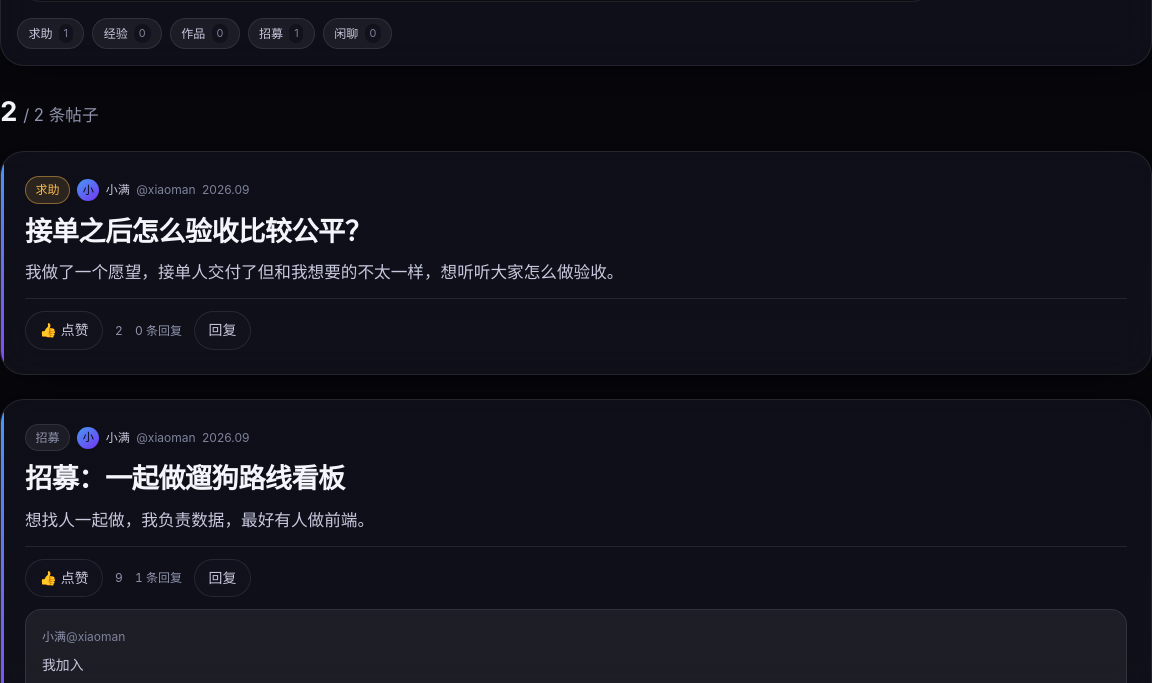
Scenario: ForumPage › 可以回复帖子
(page scrolled)
Click the button "回复" below "接单之后怎么验收比较公平？" at (222, 331), box [194,311,251,350]
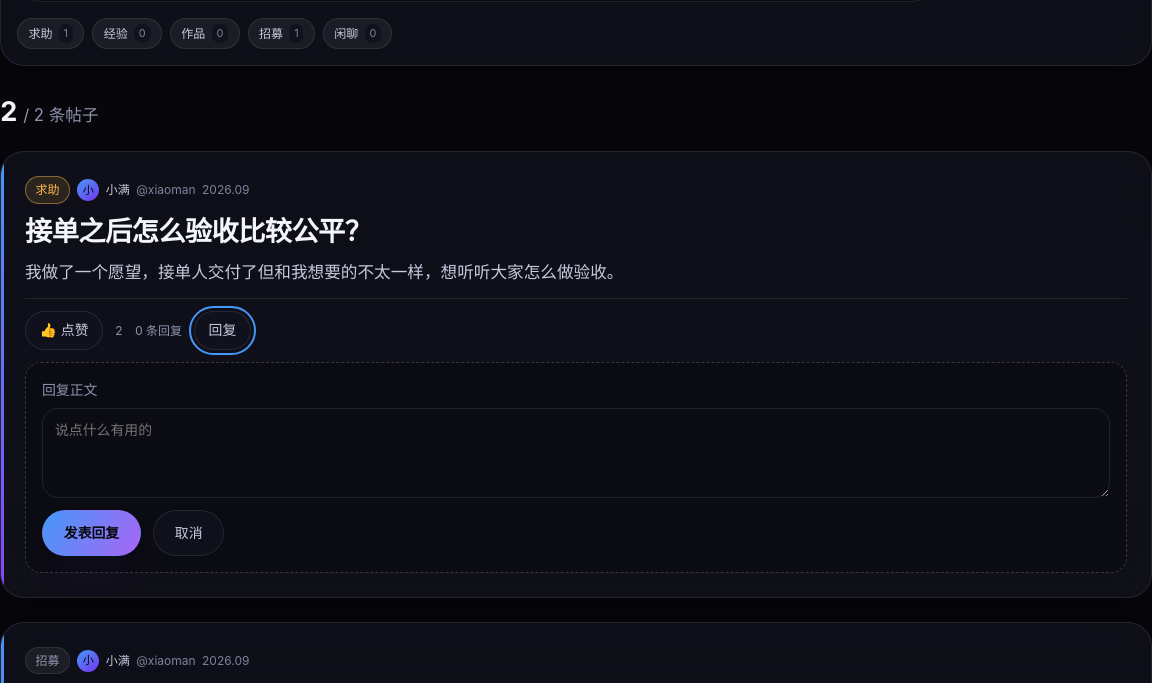
Type "先把验收标准写进愿望里" into the text box labelled "回复正文" at (576, 453), box [42,408,1110,498]
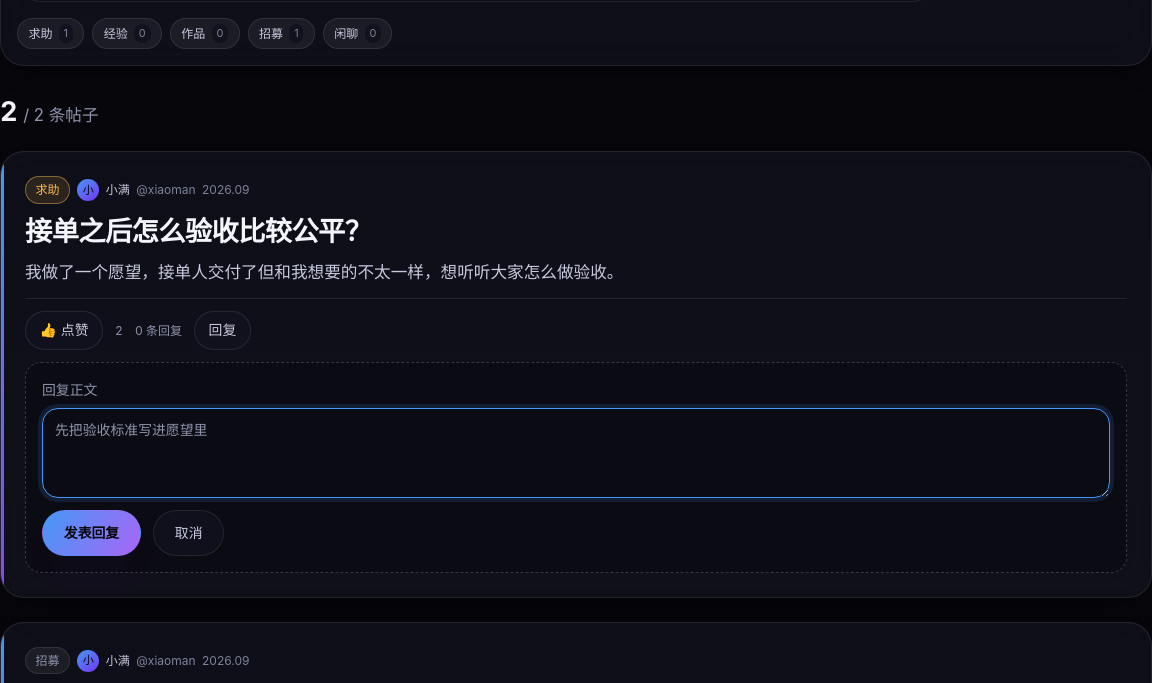
Click the button "发表回复" at (92, 533), box [42,510,141,556]
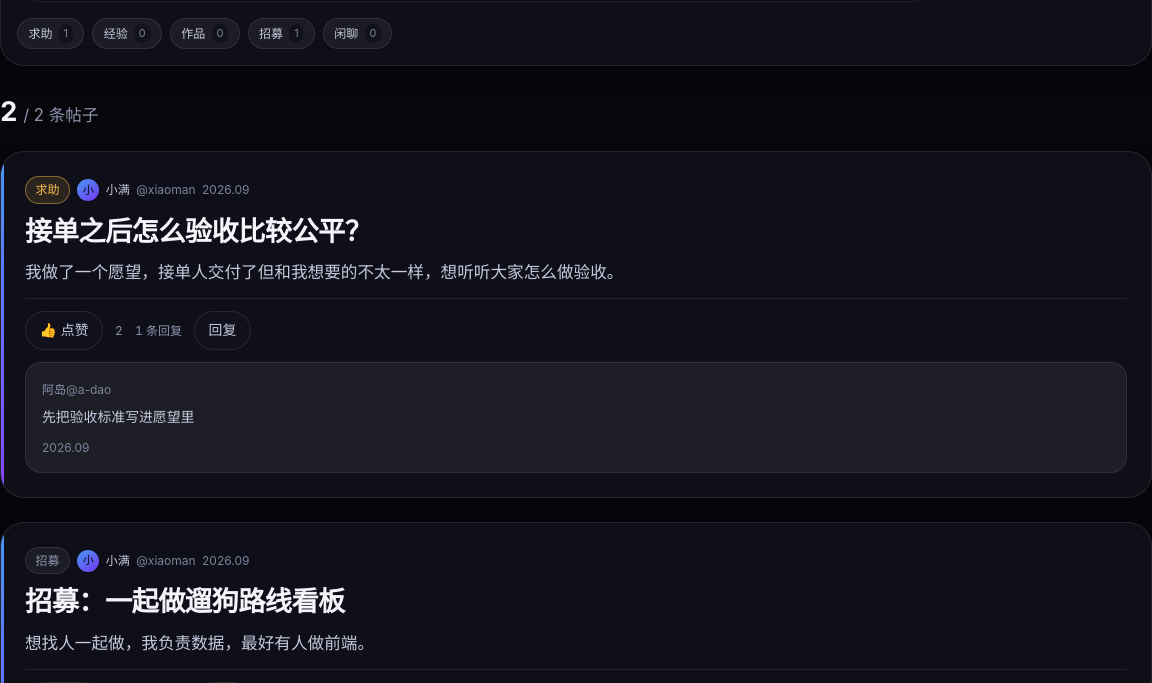
expect the text "先把验收标准写进愿望里" is shown: met, box [42,409,194,425]
